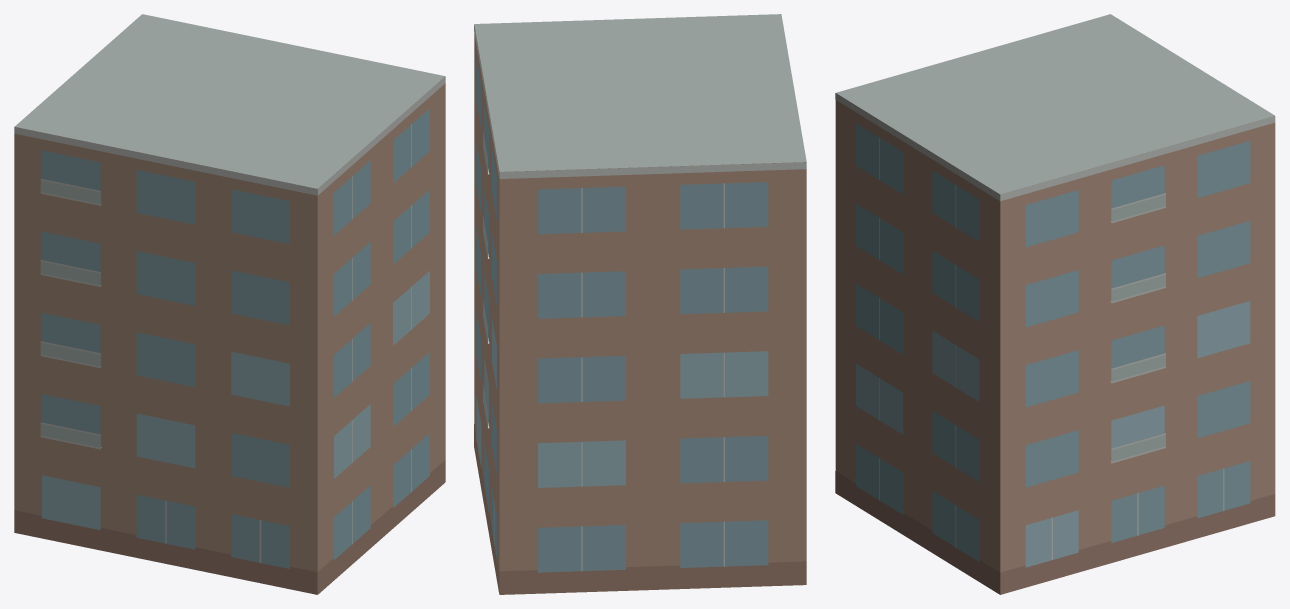
File: survey-upis-32886700.glb
3 views of the same model, side by side, from view 1: azimuth 30°, elevation 25°; view 2: azimuth 150°, elevation 25°; view 3: azimuth 270°, elevation 25° (orthographic). The views are drawn at different scales.
Visible parts, largest first — view 1: survey-upis-32886700.tmp; view 2: survey-upis-32886700.tmp; view 3: survey-upis-32886700.tmp.
Boxes of the visible parts, x1,y1,x2,y2 form: survey-upis-32886700.tmp: (14,14,445,594); survey-upis-32886700.tmp: (474,14,806,594); survey-upis-32886700.tmp: (835,14,1275,594).
Bounding box in the file's own units: 13.98 × 14.45 × 14.4.
